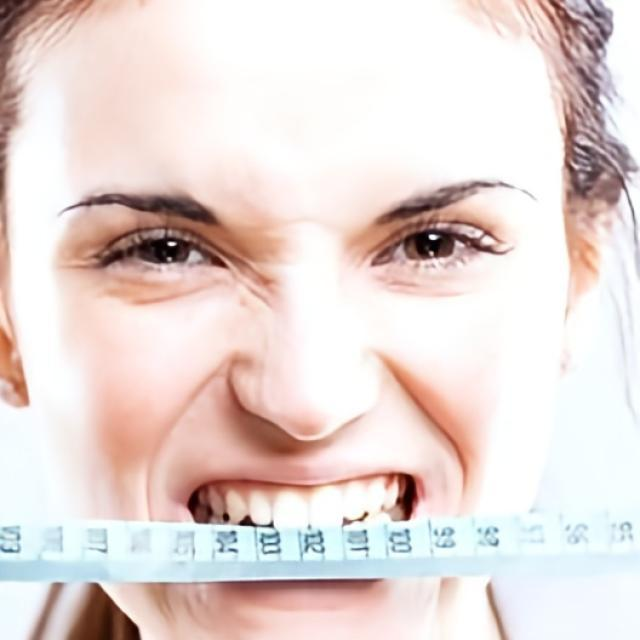anger: (9, 0, 572, 640)
